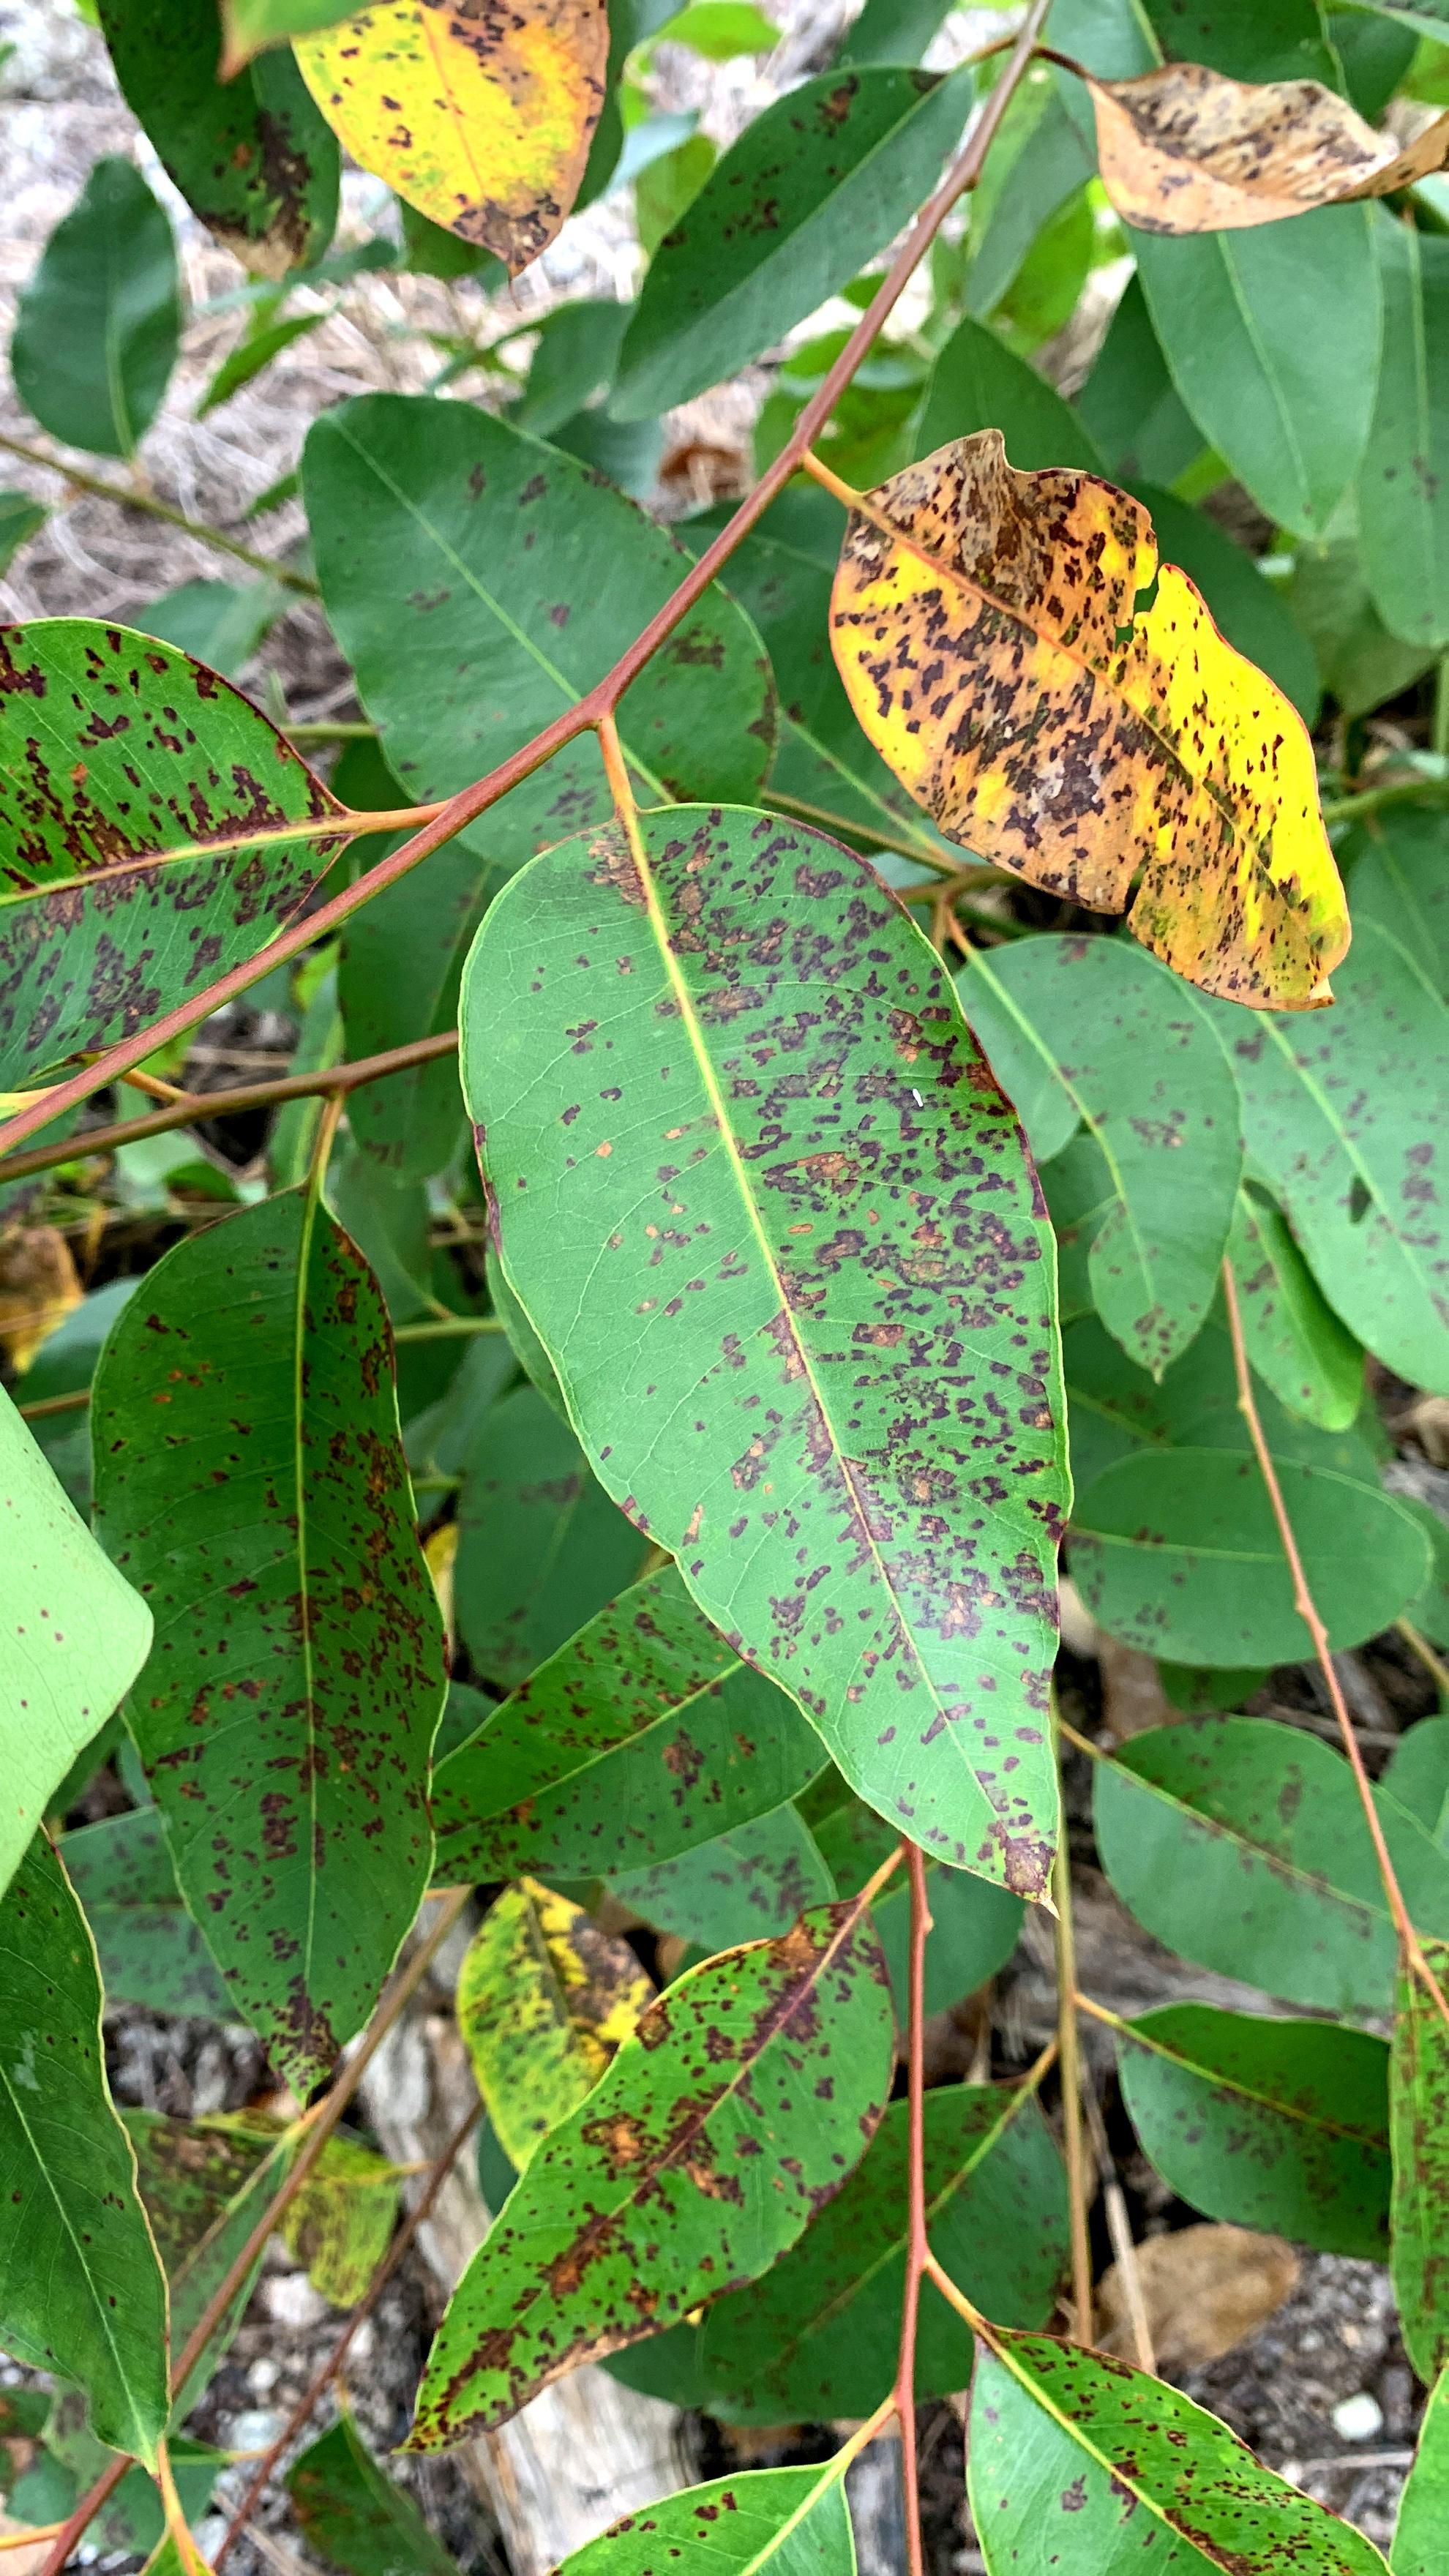Xanthomonas: (487, 832, 1095, 1821), (110, 1219, 456, 2036), (842, 479, 1376, 998), (414, 1921, 904, 2470), (0, 626, 331, 1070), (674, 2091, 1047, 2447), (982, 2295, 1412, 2576), (294, 0, 639, 269), (1131, 2003, 1403, 2259), (161, 122, 343, 264), (1398, 1966, 1449, 2364)
